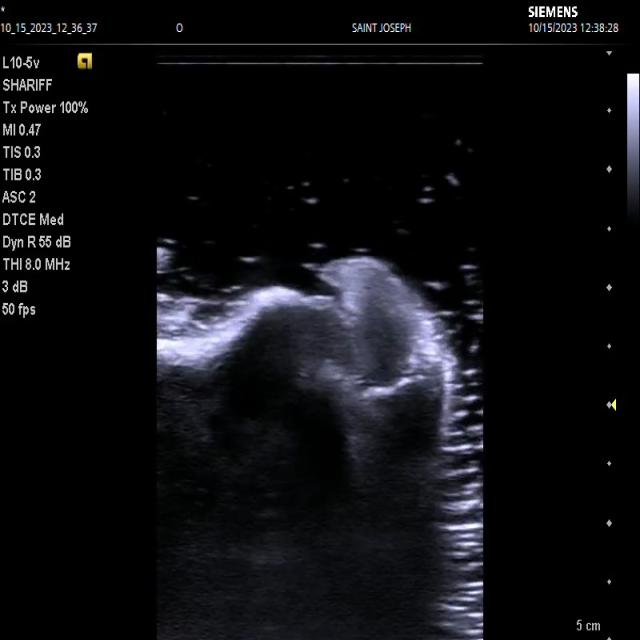tissue: (157, 257, 482, 640)
